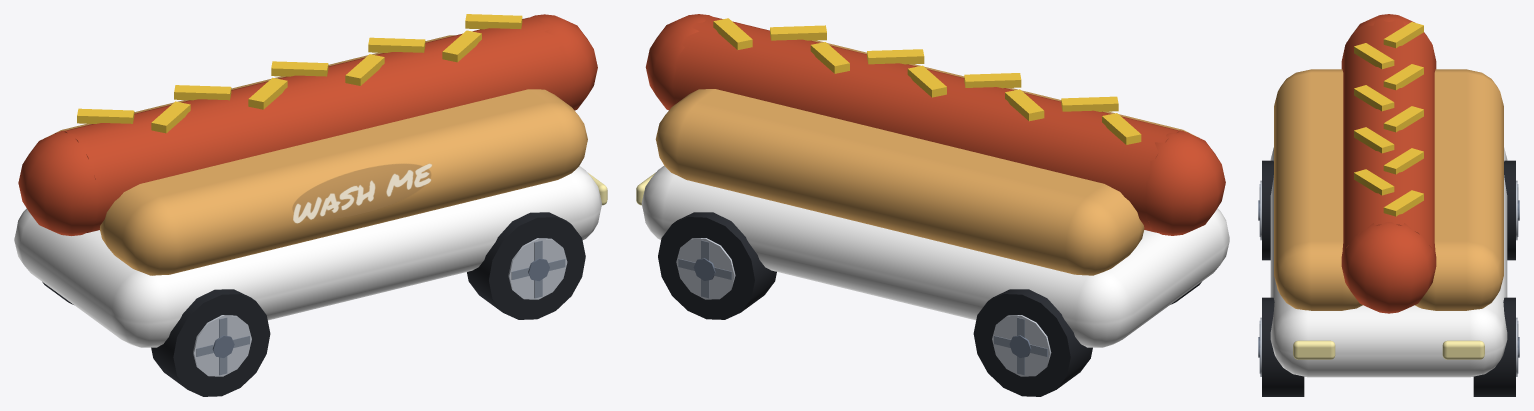
The model's file is car_hotdog.glb.
The picture shows the model from 3 angles, left to right: view 1: azimuth 30°, elevation 25°; view 2: azimuth 150°, elevation 25°; view 3: azimuth 270°, elevation 25°; orthographic projection. The views are drawn at different scales.
Visible parts, largest first — view 1: Trim, Paint, Wheel1, Wheel0, WashMe; view 2: Trim, Paint, Wheel3, Wheel2; view 3: Trim, Paint, Wheel0, Wheel2, Wheel1, Wheel3.
Boxes of the visible parts, bbox=[...] form: Trim: bbox=[18, 14, 607, 275]; Paint: bbox=[14, 166, 601, 347]; Wheel1: bbox=[151, 289, 270, 396]; Wheel0: bbox=[467, 212, 585, 319]; WashMe: bbox=[292, 163, 431, 223]; Trim: bbox=[636, 14, 1225, 275]; Paint: bbox=[641, 166, 1229, 347]; Wheel3: bbox=[973, 289, 1092, 396]; Wheel2: bbox=[658, 212, 776, 319]; Trim: bbox=[1274, 14, 1503, 359]; Paint: bbox=[1270, 147, 1507, 377]; Wheel0: bbox=[1258, 297, 1304, 396]; Wheel2: bbox=[1473, 297, 1519, 396]; Wheel1: bbox=[1258, 160, 1273, 260]; Wheel3: bbox=[1504, 160, 1519, 260].
Size of the model in its own units: 4.66 by 1.84 by 2.1.
Materials: 7 (1 with a texture image).
